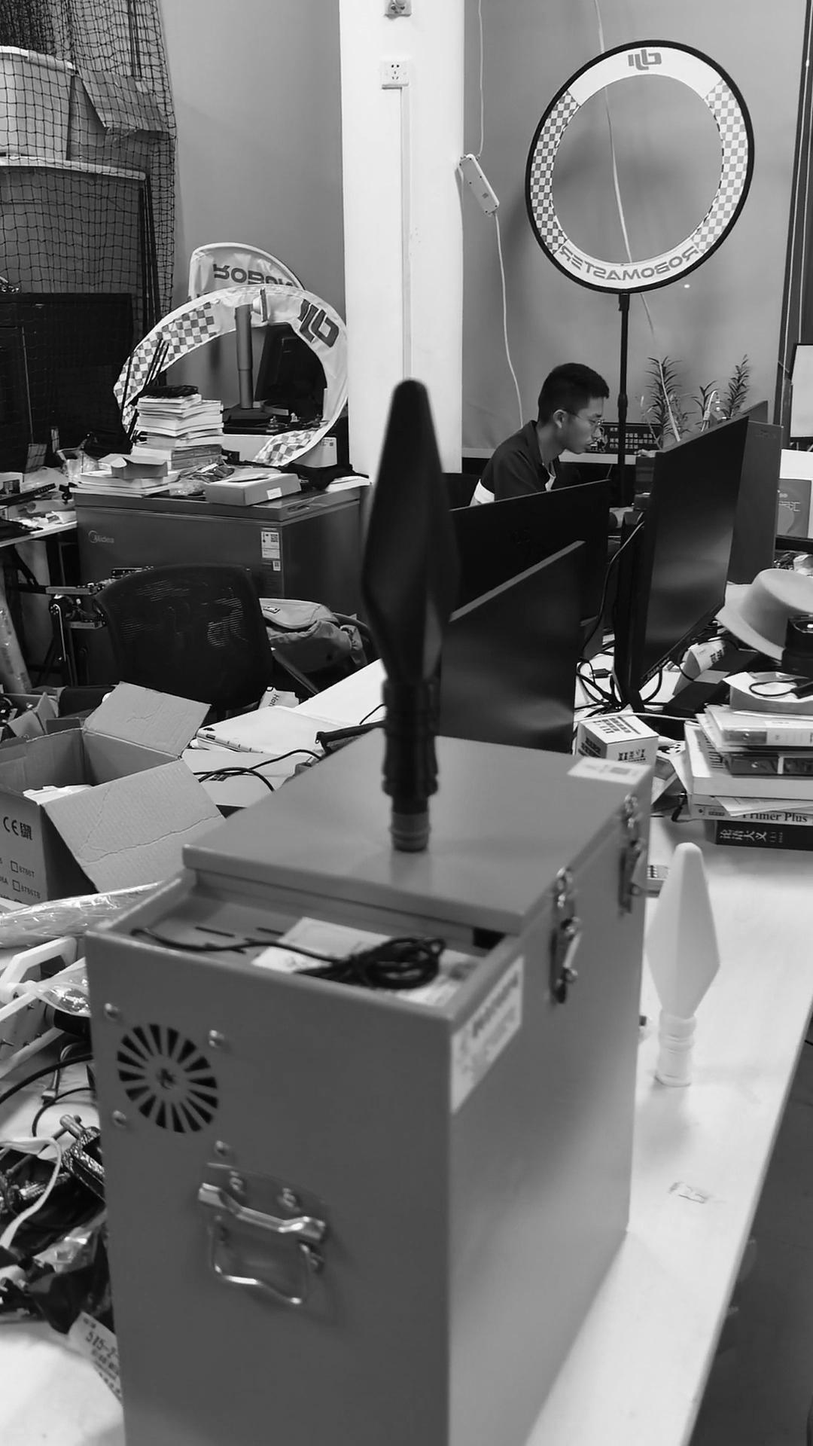base: (387, 806, 433, 853)
